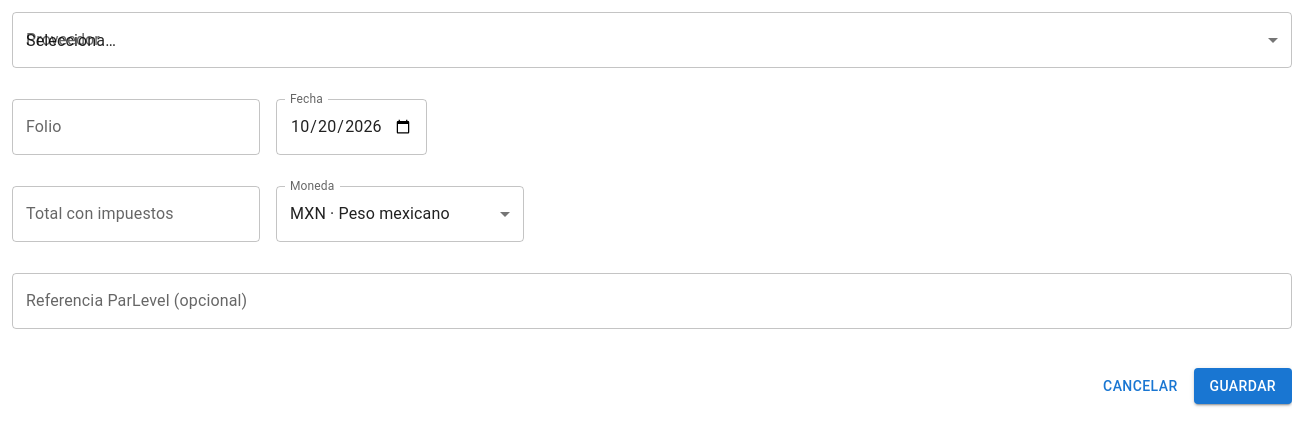
Test: PurchaseOrderForm › AC-003-08 propone la moneda del proveedor elegido
Check: the dropdown labelled "Moneda" shows "MXN · Peso mexicano", box [276,186,524,242]
Select "Importadora Snacks · Crédito 20 días" in the dropdown labelled "Proveedor" at (652, 40), box [12,12,1292,68]
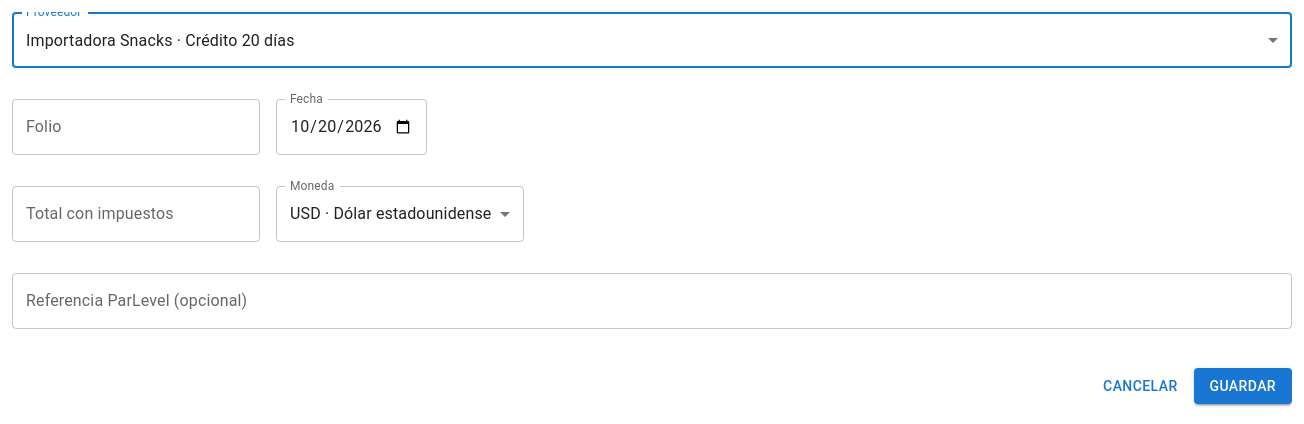
Check: the dropdown labelled "Moneda" shows "USD · Dólar estadounidense", box [276,186,524,242]
